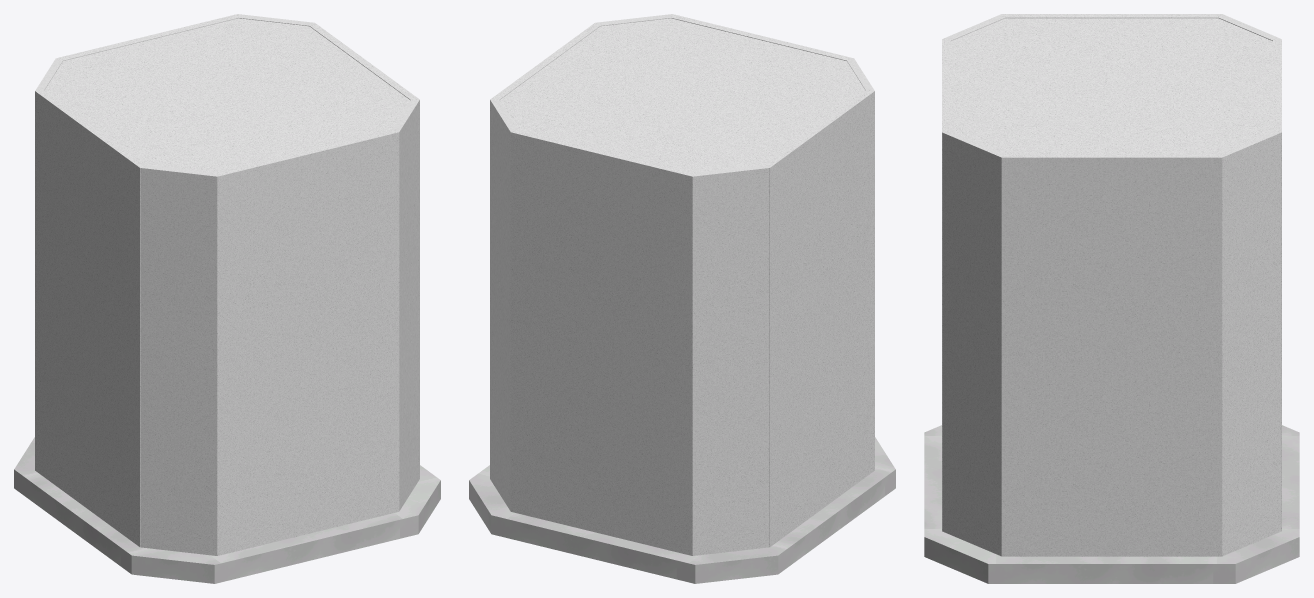
File: Container01.fbx
The picture shows the model from 3 angles, left to right: view 1: azimuth 30°, elevation 25°; view 2: azimuth 150°, elevation 25°; view 3: azimuth 270°, elevation 25°; orthographic projection. The views are drawn at different scales.
Visible parts, largest first — view 1: node_id8, node_id5; view 2: node_id8, node_id5; view 3: node_id8, node_id5.
Boxes of the visible parts, x1,y1,x2,y2 form: node_id8: (35, 14, 419, 555); node_id5: (14, 437, 440, 583); node_id8: (490, 14, 874, 555); node_id5: (469, 437, 895, 583); node_id8: (942, 14, 1281, 556); node_id5: (924, 425, 1299, 583).
Size of what is drawn, in the model's own units: 0.4155 by 0.512 by 0.4155.
2 materials, 2 textured.
